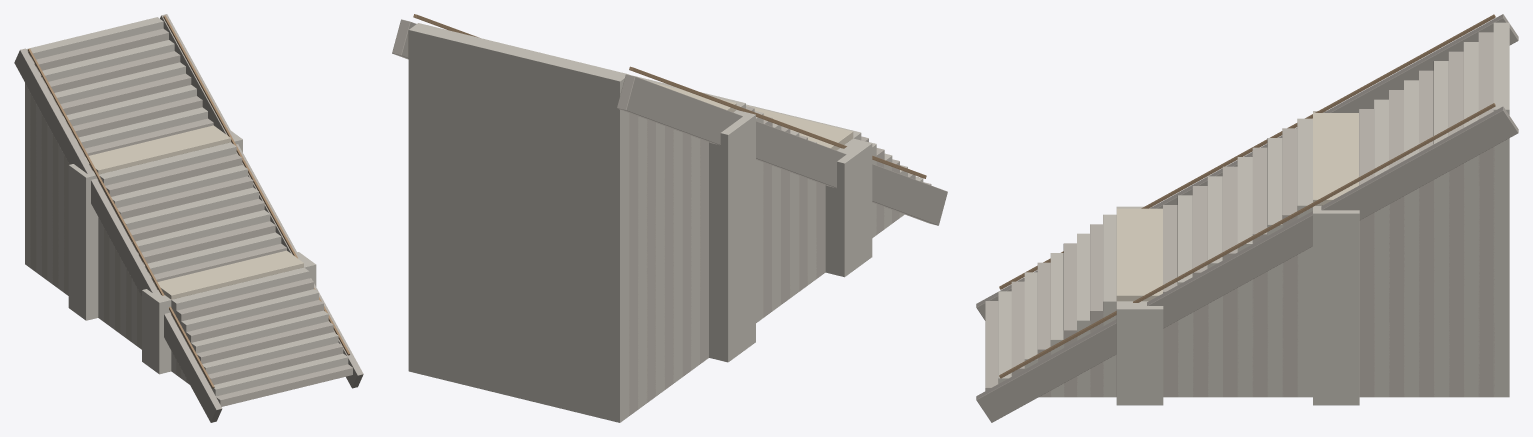
Rendered from stairs.glb.
The picture shows the model from 3 angles, left to right: view 1: azimuth 30°, elevation 25°; view 2: azimuth 150°, elevation 25°; view 3: azimuth 270°, elevation 25°; orthographic projection. The views are drawn at different scales.
Visible parts, largest first — view 1: SideWall, Landing1, Landing2Top, Landing1Top, Step.001, Step, Step.003, Step.002, Step.004, Step.005, Step.006, Step.010 (+26 smaller); view 2: Step, Landing1, SideWall, Landing2, Step.001, Step.002, Step.003, Step.004, Step.005, Step.006, Step.007, Step.008 (+12 smaller); view 3: SideWall.001, Landing1, Step, Step.001, Step.002, Landing2, Step.003, Step.004, Step.005, Step.006, Landing2Top, Step.007 (+26 smaller).
Boxes of the visible parts, x1,y1,x2,y2 form: SideWall: [14, 48, 222, 422]; Landing1: [68, 131, 242, 320]; Landing2Top: [154, 250, 303, 299]; Landing1Top: [85, 125, 230, 174]; Step.001: [30, 28, 168, 271]; Step: [25, 17, 163, 267]; Step.003: [41, 51, 180, 280]; Step.002: [36, 40, 174, 276]; Step.004: [47, 62, 185, 284]; Step.005: [52, 73, 191, 288]; Step.006: [58, 85, 196, 292]; Step.010: [98, 142, 236, 321]; Step: [408, 23, 629, 422]; Landing1: [709, 110, 755, 362]; SideWall: [617, 74, 947, 225]; Landing2: [825, 138, 872, 277]; Step.001: [629, 113, 638, 415]; Step.002: [638, 116, 647, 409]; Step.003: [646, 119, 655, 402]; Step.004: [655, 123, 664, 396]; Step.005: [664, 126, 673, 389]; Step.006: [673, 129, 682, 383]; Step.007: [682, 133, 691, 376]; Step.008: [691, 136, 700, 370]; SideWall.001: [976, 106, 1518, 422]; Landing1: [1313, 111, 1359, 405]; Step: [1493, 22, 1509, 397]; Step.001: [1478, 32, 1494, 397]; Step.002: [1463, 42, 1479, 397]; Landing2: [1116, 206, 1163, 405]; Step.003: [1448, 51, 1464, 397]; Step.004: [1433, 61, 1449, 397]; Step.005: [1419, 70, 1434, 397]; Step.006: [1404, 80, 1419, 397]; Landing2Top: [1116, 208, 1162, 301]; Step.007: [1389, 90, 1404, 397].
Bounding box in the file's own units: 13 × 18.65 × 29.02.
